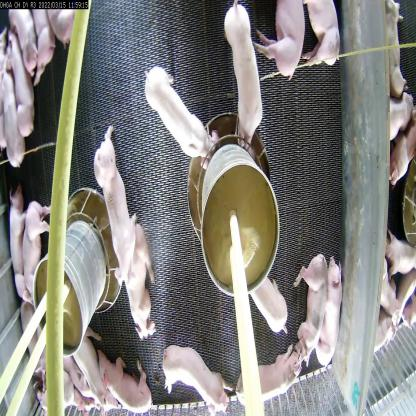Pig: (142, 61, 219, 174), (92, 114, 139, 280), (222, 0, 267, 156), (230, 334, 302, 411), (120, 212, 156, 349), (162, 341, 230, 411), (6, 24, 43, 147), (252, 0, 307, 82), (294, 248, 329, 368), (96, 346, 154, 414), (7, 184, 37, 298), (23, 193, 54, 300), (316, 251, 344, 367), (1, 66, 31, 172), (304, 0, 344, 71), (249, 276, 294, 337), (9, 5, 38, 77), (32, 8, 56, 88), (384, 222, 415, 279)
